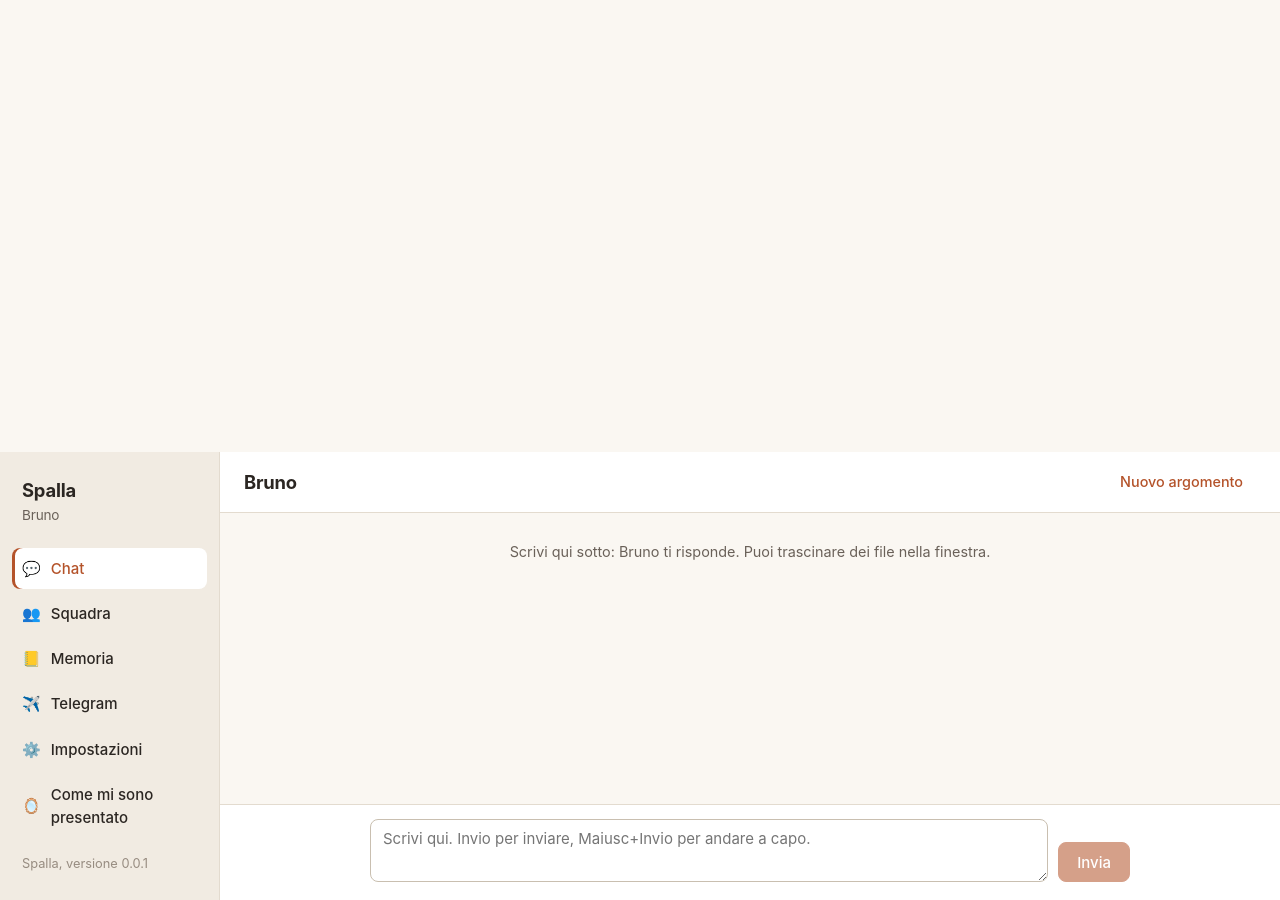
Scenario: la chat nella finestra › /nuova e [Nuovo argomento] aprono una sessione nuova
This screenshot has width=1280, height=900.
Later steps or results of the test are not shown.
(page scrolled)
In the text box named "Il tuo messaggio": [709, 851] box [370,819,1048,882], type "/nuova"
Then press Enter
(page scrolled)
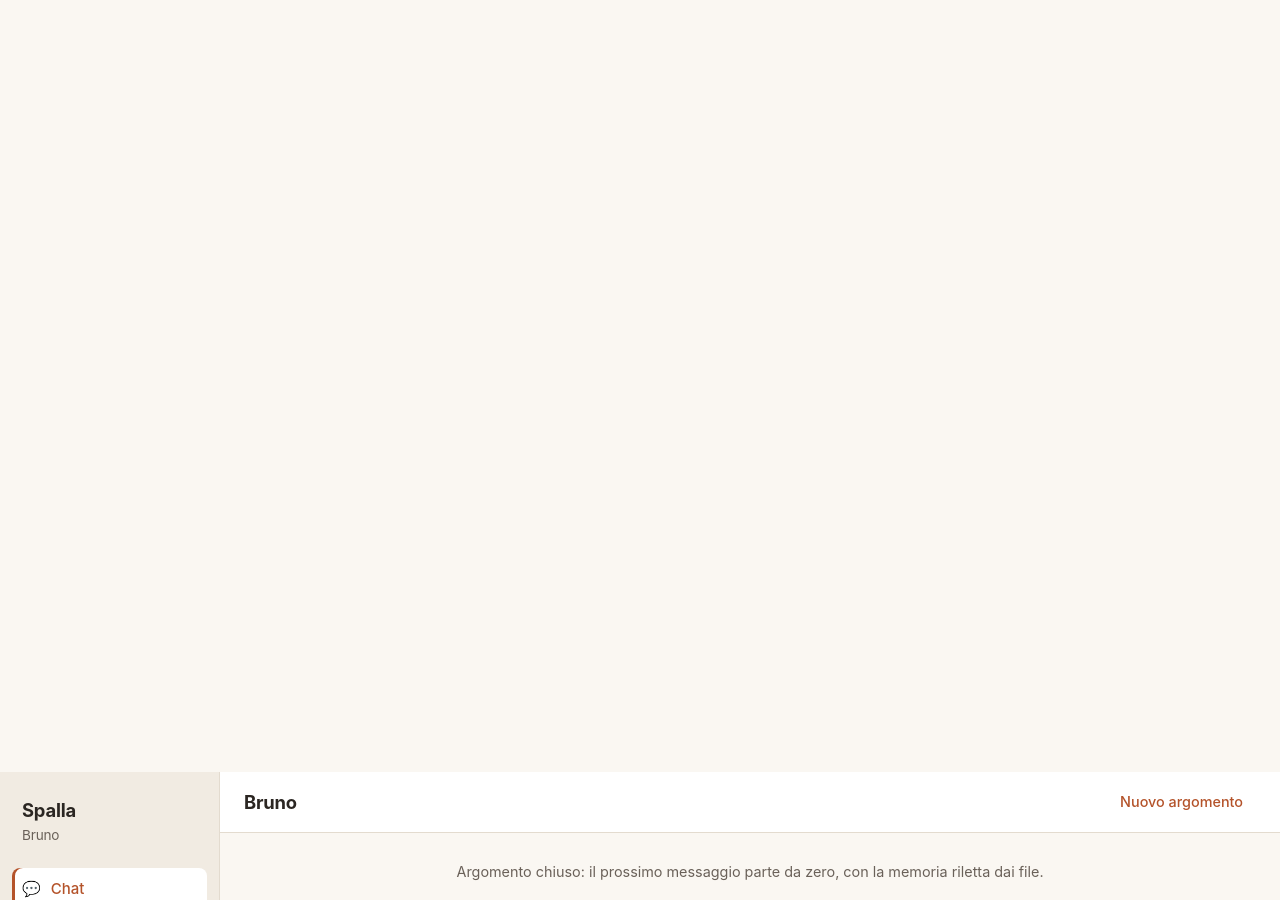
Expected: the text "Argomento chiuso: il prossimo messaggio parte da zero, con la memoria riletta dai file." is shown, [456,863,1044,880]
